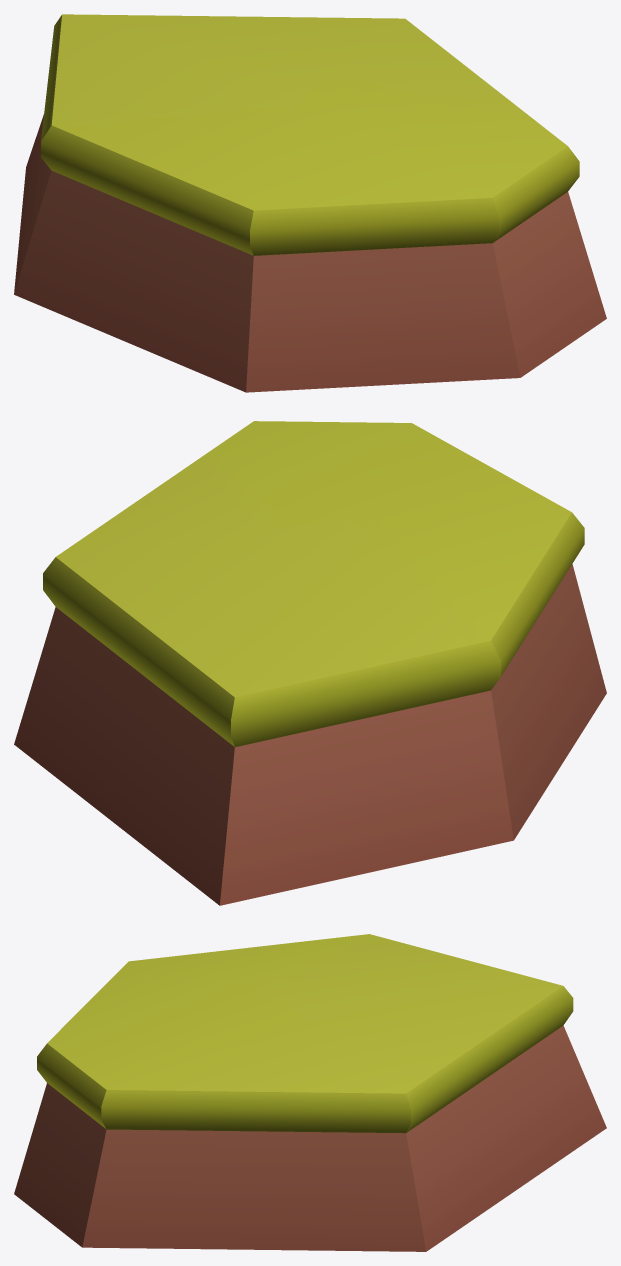
The model's file is d_kaykit_butte_b.glb.
3 renders of one model, top to bottom at view 1: azimuth 30°, elevation 25°; view 2: azimuth 150°, elevation 25°; view 3: azimuth 270°, elevation 25°, orthographic. The views are drawn at different scales.
Parts seen in each view (by area): view 1: d_kaykit_butte_b; view 2: d_kaykit_butte_b; view 3: d_kaykit_butte_b.
Boxes of the visible parts, box(x1,y1,x2,y2) form: d_kaykit_butte_b: box(14, 14, 606, 392); d_kaykit_butte_b: box(14, 421, 606, 905); d_kaykit_butte_b: box(14, 934, 606, 1251).
Bounding box in the file's own units: 0.995 × 0.4187 × 1.36.
Materials: 1 (1 with a texture image).
